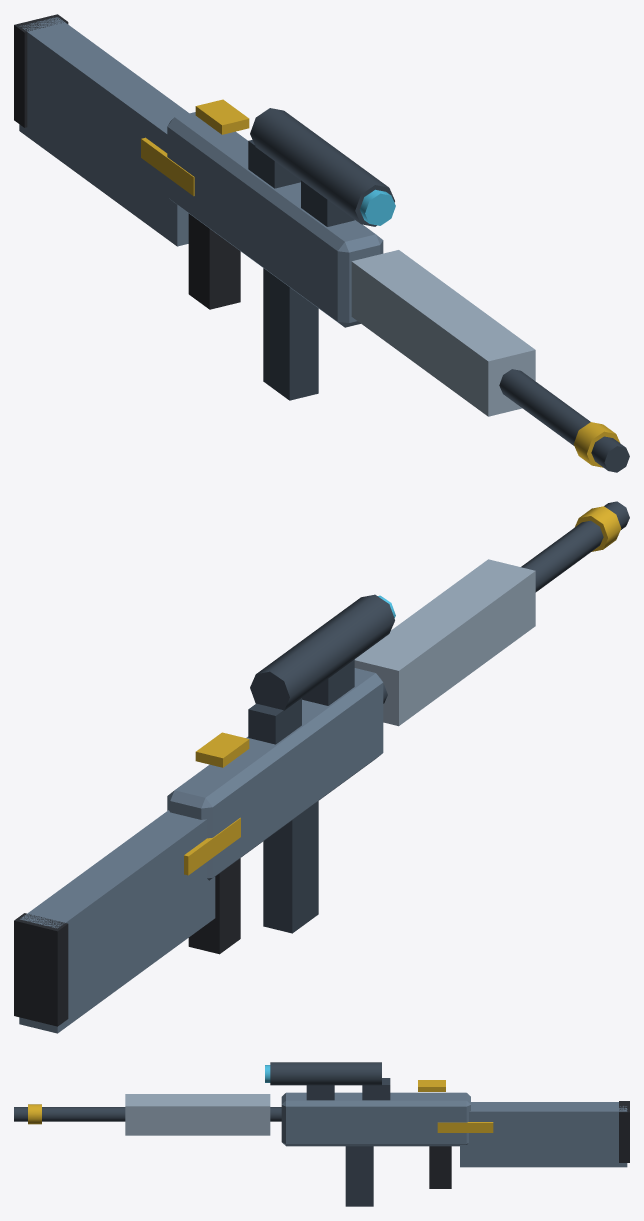
3 renders of one model, top to bottom at view 1: azimuth 30°, elevation 25°; view 2: azimuth 150°, elevation 25°; view 3: azimuth 270°, elevation 25°, orthographic. The views are drawn at different scales.
Parts seen in each view (by area): view 1: dweller_weapon_rifle; view 2: dweller_weapon_rifle; view 3: dweller_weapon_rifle.
Part boxes in pixels (x1,y1,x2,y2): dweller_weapon_rifle: (14, 14, 629, 472); dweller_weapon_rifle: (14, 501, 629, 1033); dweller_weapon_rifle: (14, 1062, 629, 1206).
Size of the model in its own units: 0.052 by 0.277 by 1.1.
